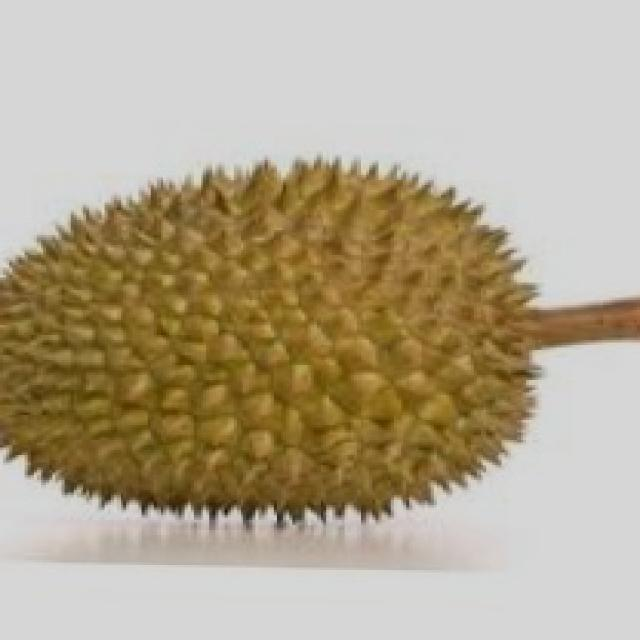fruit: (216, 178, 606, 572), (0, 140, 345, 568)
